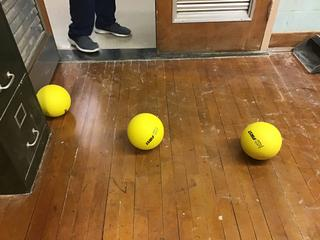power_cell: (236, 118, 288, 162), (125, 111, 167, 159), (31, 78, 69, 119)
